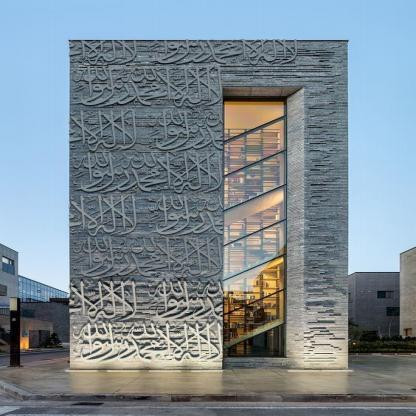Building Outline: (69, 40, 348, 370)
Facade: (69, 40, 348, 370)
Floor: (69, 282, 348, 319), (69, 149, 348, 182), (69, 217, 348, 247), (69, 251, 348, 279), (69, 185, 348, 213)
Floor Slab: (69, 278, 348, 282), (69, 247, 348, 251), (69, 213, 348, 217), (69, 319, 348, 323), (69, 182, 348, 185), (69, 145, 348, 148)
Ground Floor: (69, 323, 348, 370)
Top Floor: (69, 88, 348, 145)
Window: (223, 289, 285, 349), (223, 185, 285, 245), (223, 220, 285, 280), (223, 254, 285, 314), (223, 150, 285, 209), (223, 119, 285, 176), (223, 98, 285, 141), (223, 324, 285, 357)
Window Hole: (223, 88, 304, 358)
